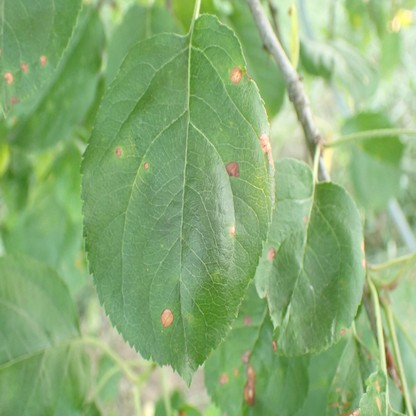frogeye: (4, 55, 48, 81), (242, 351, 256, 404), (260, 132, 274, 167), (375, 379, 382, 413), (226, 161, 240, 177), (162, 309, 174, 327), (231, 67, 243, 84), (360, 241, 366, 269), (220, 373, 229, 385), (11, 95, 19, 106), (244, 316, 252, 326), (267, 249, 275, 259), (230, 224, 235, 236), (116, 146, 122, 155), (340, 328, 345, 338), (303, 214, 309, 222), (144, 162, 149, 170), (353, 410, 359, 416), (234, 370, 238, 378), (273, 340, 276, 349)
